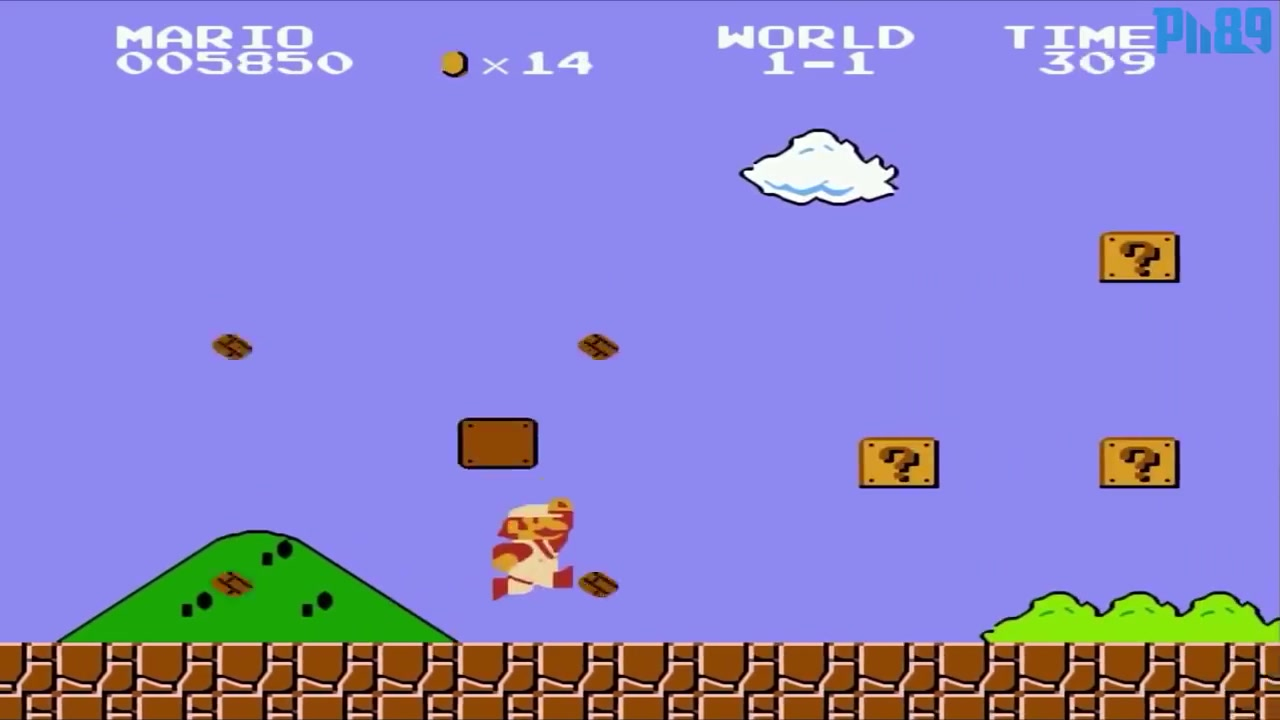mario: (486, 492, 581, 610)
